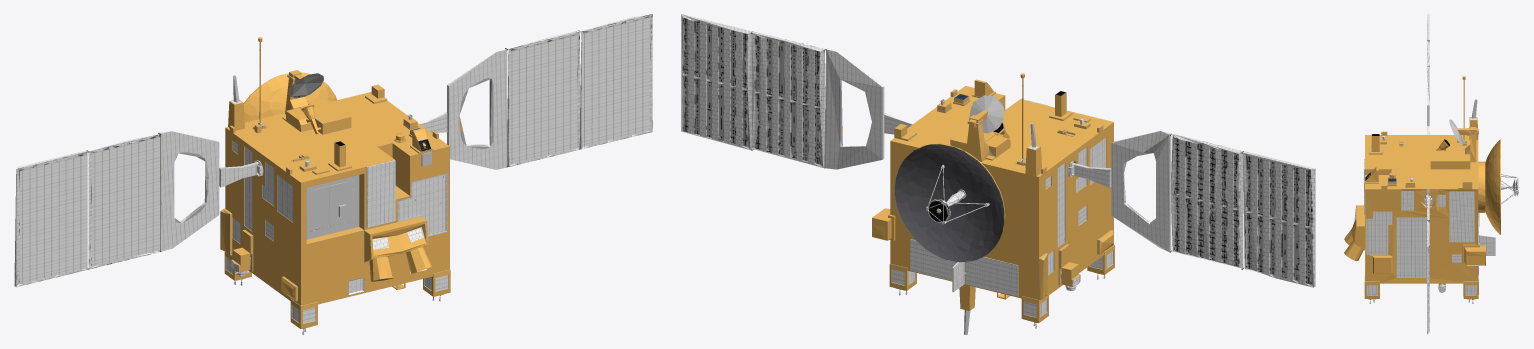
File: vex.glb
The picture shows the model from 3 angles, left to right: view 1: azimuth 30°, elevation 25°; view 2: azimuth 150°, elevation 25°; view 3: azimuth 270°, elevation 25°; orthographic projection. The views are drawn at different scales.
Visible parts, largest first — view 1: bus, solar, hga; view 2: solar, bus, hga; view 3: bus, hga, solar.
Part boxes in pixels (x1=…): bus: x1=219, y1=37, x2=450, y2=334; solar: x1=14, y1=14, x2=652, y2=287; hga: x1=243, y1=72, x2=336, y2=122; solar: x1=681, y1=14, x2=1315, y2=287; bus: x1=872, y1=73, x2=1114, y2=334; hga: x1=894, y1=143, x2=1005, y2=292; bus: x1=1344, y1=76, x2=1485, y2=303; hga: x1=1478, y1=139, x2=1519, y2=255; solar: x1=1427, y1=14, x2=1429, y2=334.
Bounding box in the file's own units: 283 × 113 × 90.48.
1 material, 1 textured.
